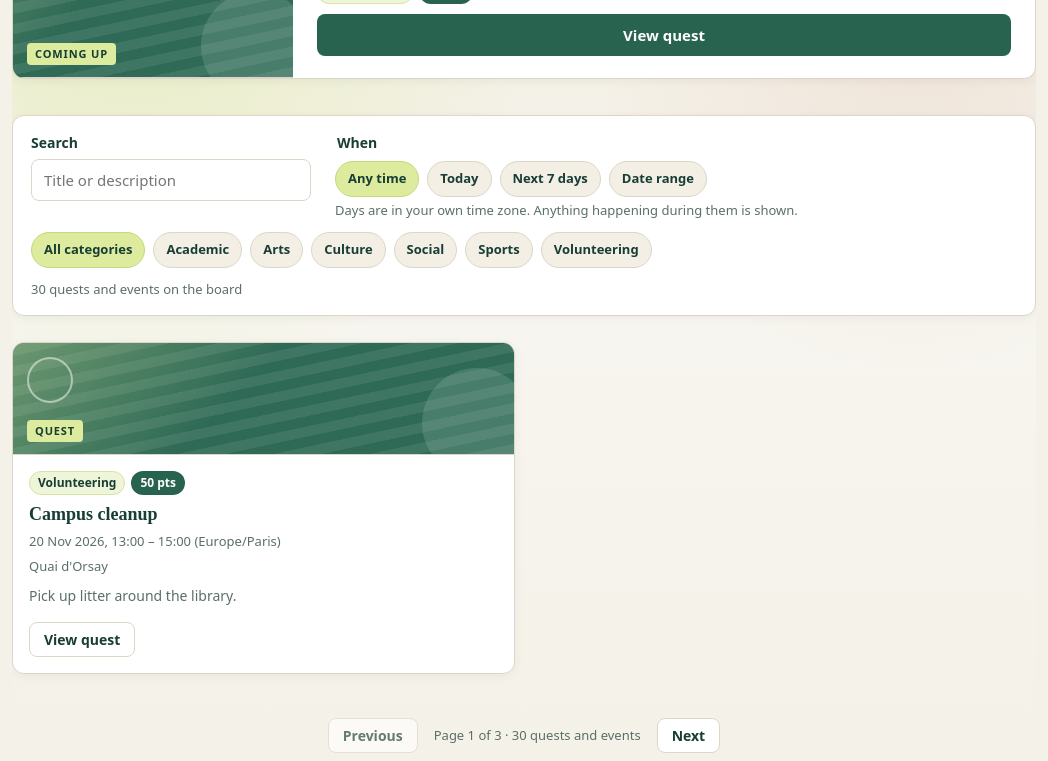
Test: Server-side filters and paging › sends the search after a pause and starts again from page 1
(page scrolled)
Click the button "Next" at [688, 735], box x1=657 y1=718 x2=720 y2=753
(page scrolled)
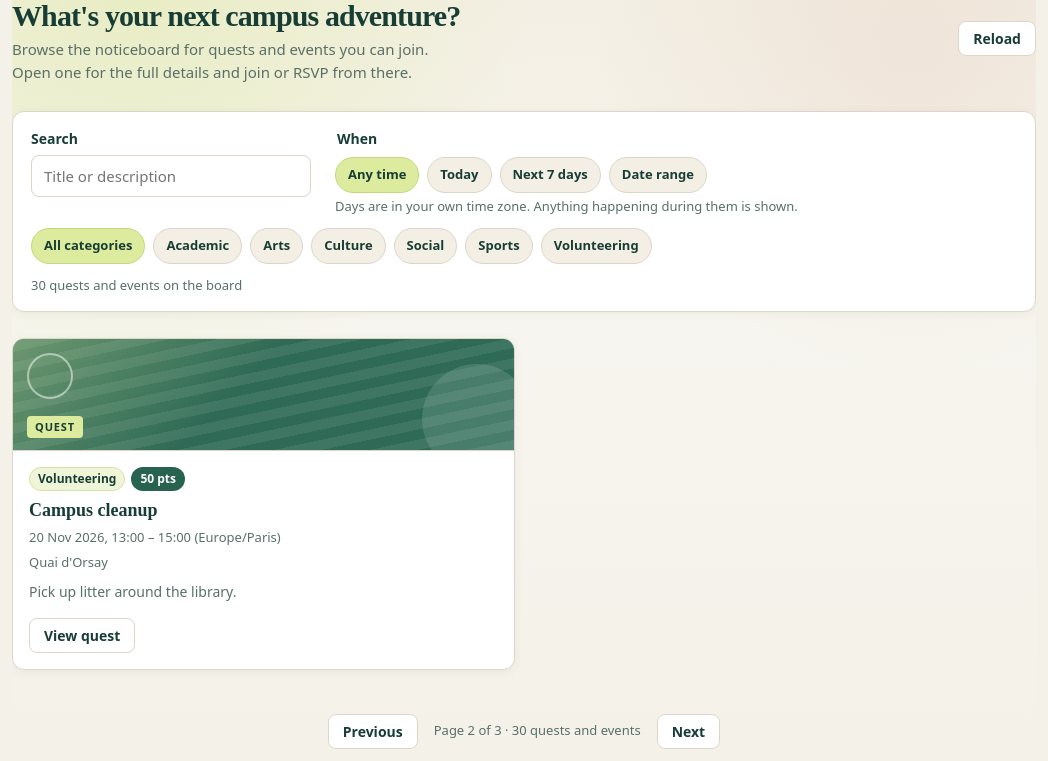
Result: the text "Page 2 of 3 · 30 quests and events" is shown at x1=434 y1=721 x2=641 y2=741
Type "chess" into the search field labelled "Search" at [171, 176], box x1=31 y1=155 x2=311 y2=197
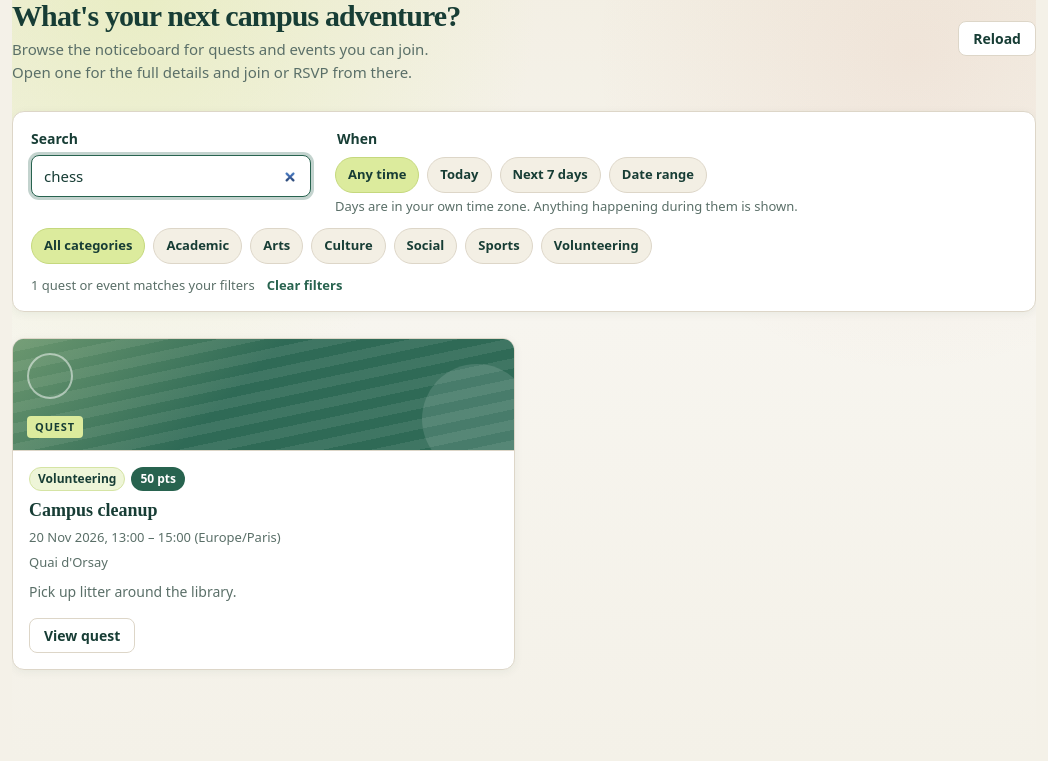
Result: the text "1 quest or event matches your filters" is shown at x1=31 y1=276 x2=255 y2=295
